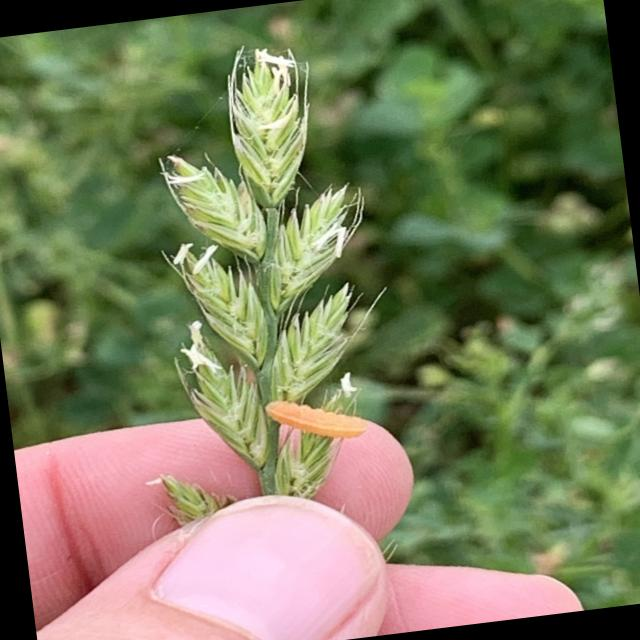Lolium: (128, 30, 414, 516)
